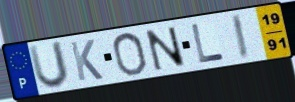I: (229, 12, 252, 61)
K: (68, 38, 105, 83)
L: (189, 22, 226, 65)
N: (143, 25, 188, 72)
O: (110, 30, 149, 78)
U: (27, 39, 72, 91)
